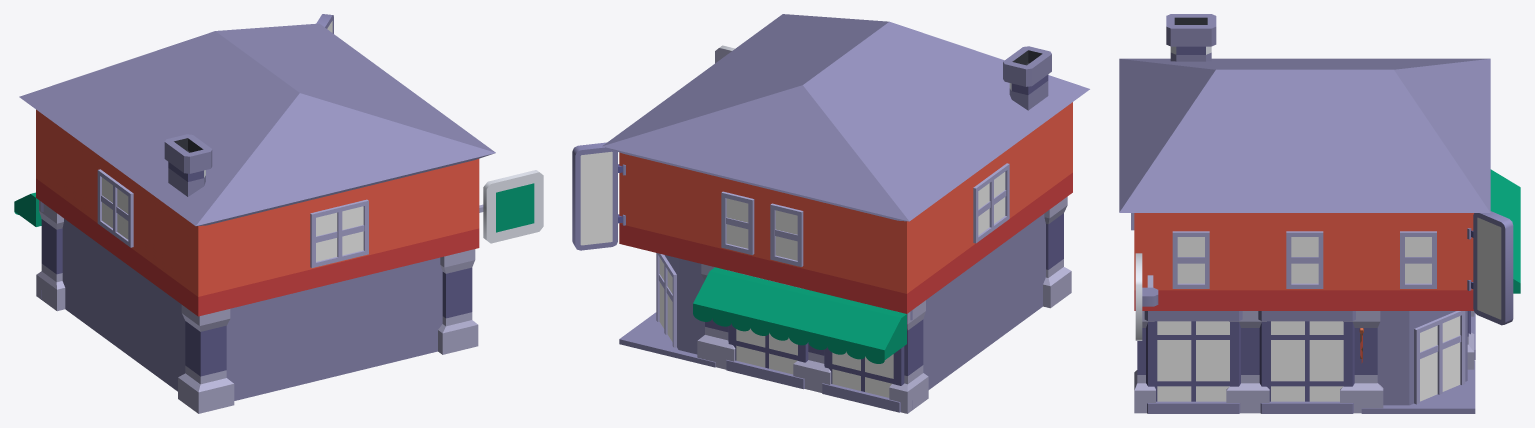
The model's file is Building_06.fbx.
3 renders of one model, left to right at view 1: azimuth 30°, elevation 25°; view 2: azimuth 150°, elevation 25°; view 3: azimuth 270°, elevation 25°, orthographic. The views are drawn at different scales.
Parts seen in each view (by area): view 1: mergedBlocks; view 2: mergedBlocks; view 3: mergedBlocks.
Boxes of the visible parts, x1,y1,x2,y2 form: mergedBlocks: (14, 14, 543, 413); mergedBlocks: (572, 14, 1089, 413); mergedBlocks: (1119, 14, 1520, 413).
Bounding box in the file's own units: 190 × 132 × 177.
